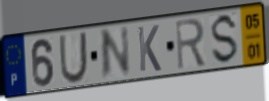6: (30, 36, 55, 89)
K: (136, 23, 163, 74)
N: (99, 24, 133, 83)
R: (173, 17, 208, 73)
S: (210, 12, 240, 67)
U: (57, 30, 89, 85)
